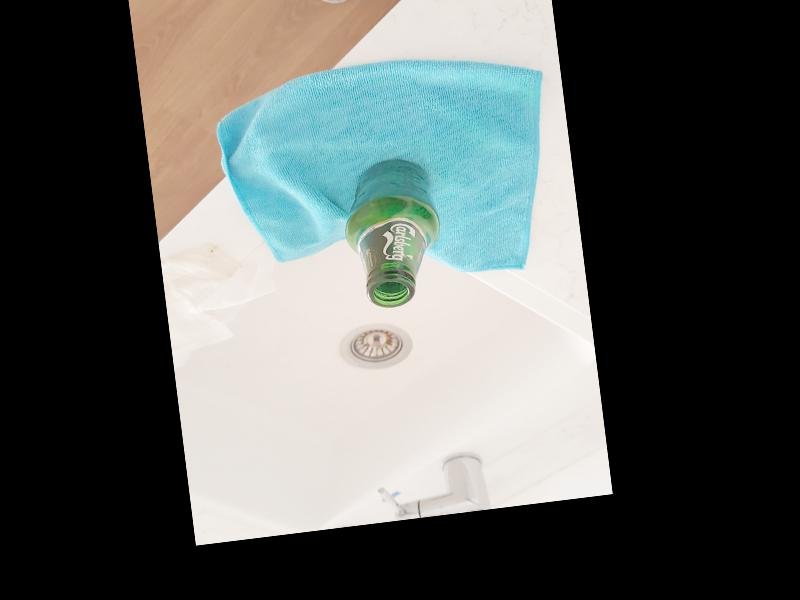Beer: (336, 153, 444, 310)
